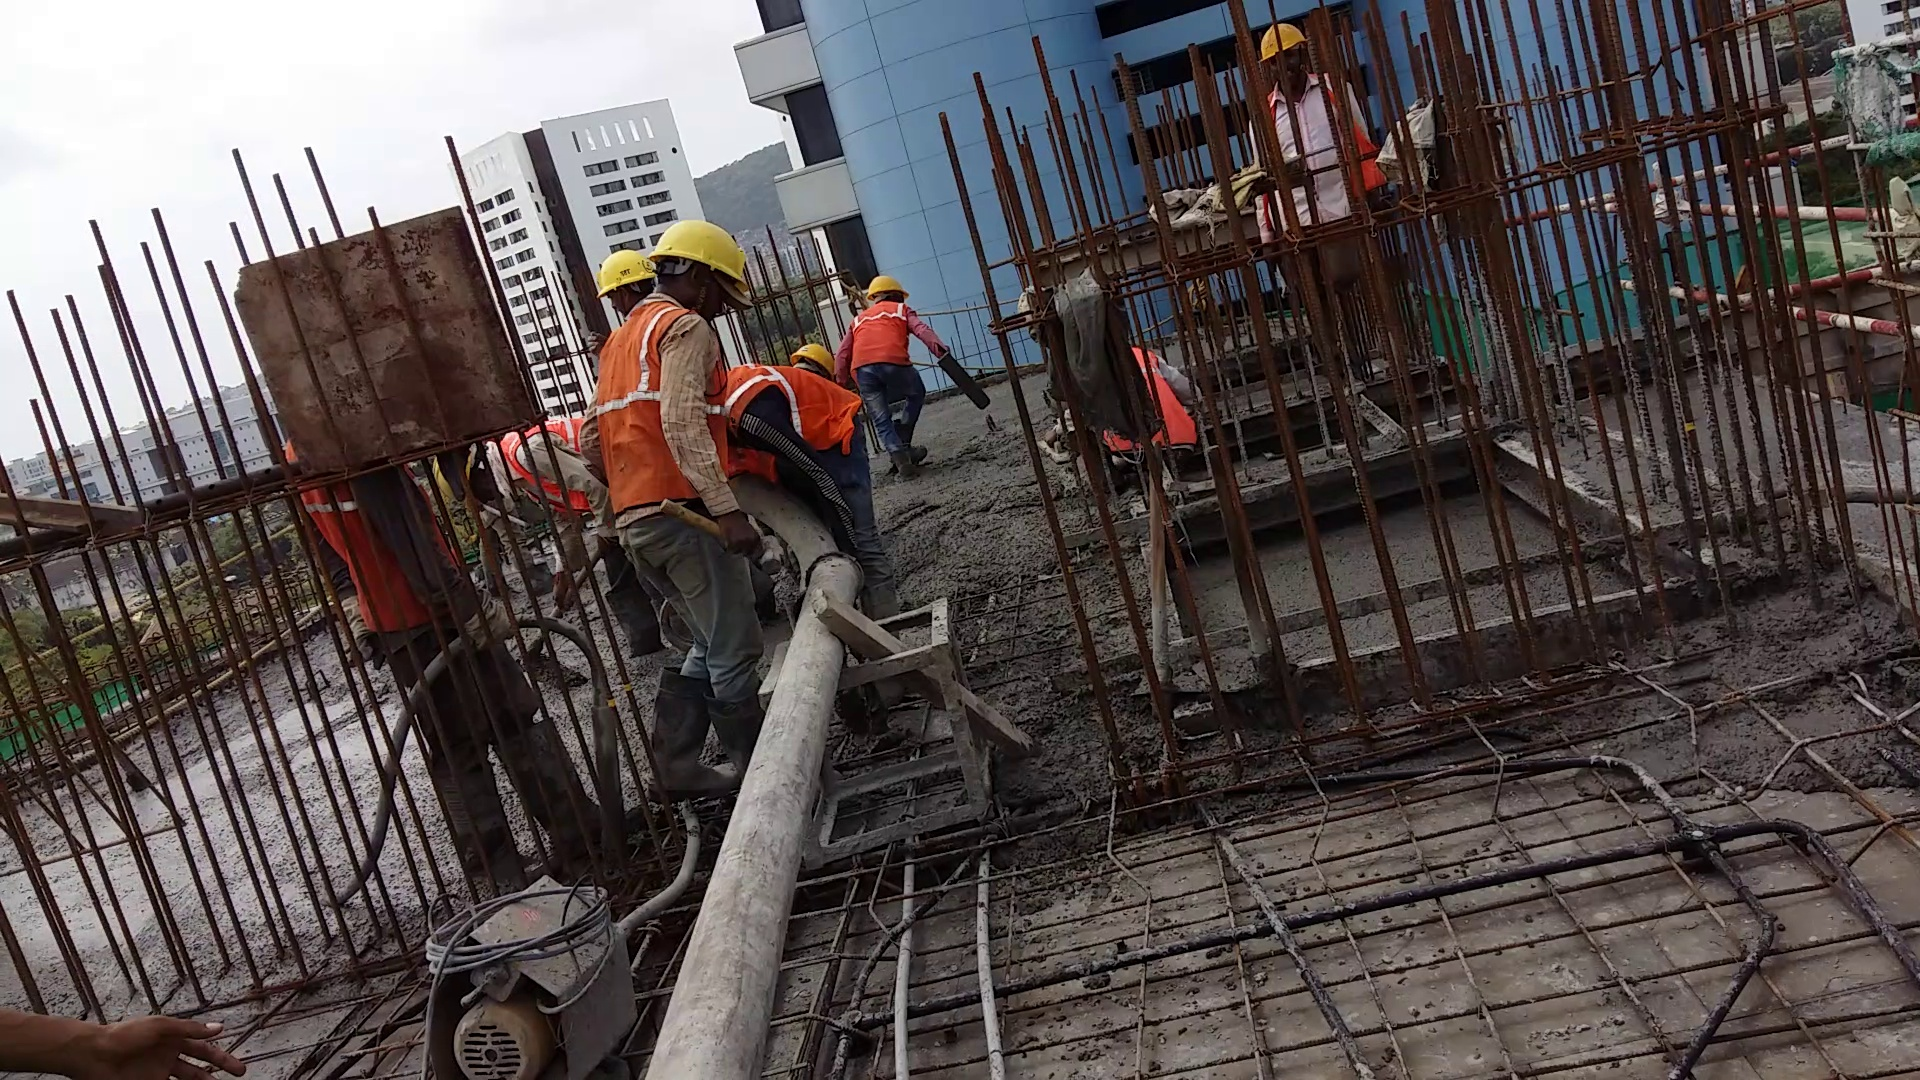SAFE: (595, 207, 749, 526), (839, 268, 916, 384)
